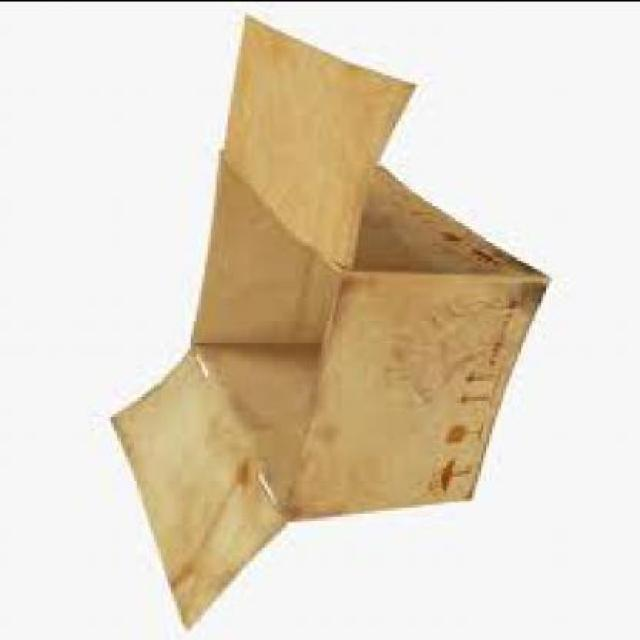CARDBOARD: (108, 14, 543, 626)
